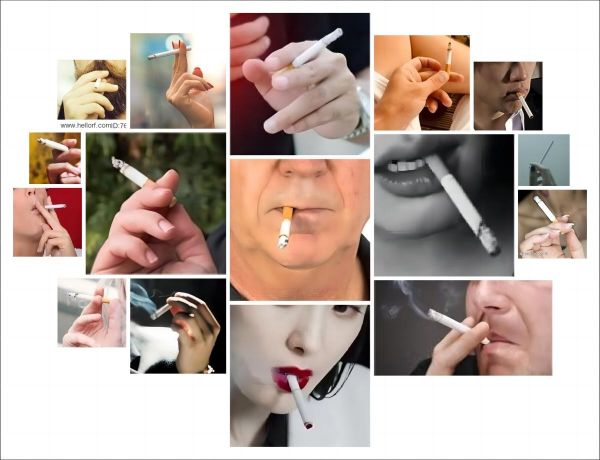smoke: (423, 152, 501, 256), (270, 24, 349, 79), (110, 153, 180, 209), (428, 306, 492, 345), (283, 369, 319, 432), (528, 188, 570, 237), (277, 205, 298, 252), (147, 45, 195, 61), (35, 135, 69, 154), (536, 139, 556, 168), (69, 292, 112, 305), (151, 300, 176, 322), (517, 92, 536, 120), (443, 40, 454, 81), (45, 203, 69, 211), (91, 75, 103, 91)
